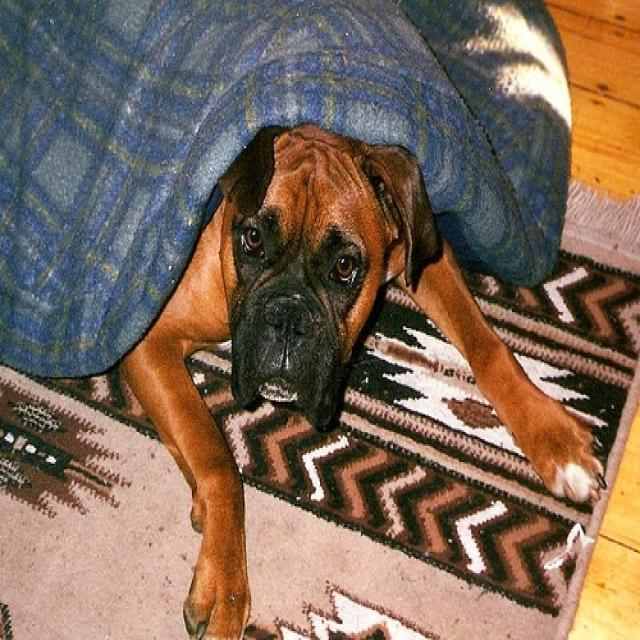dog-boxer: (115, 118, 609, 636)
